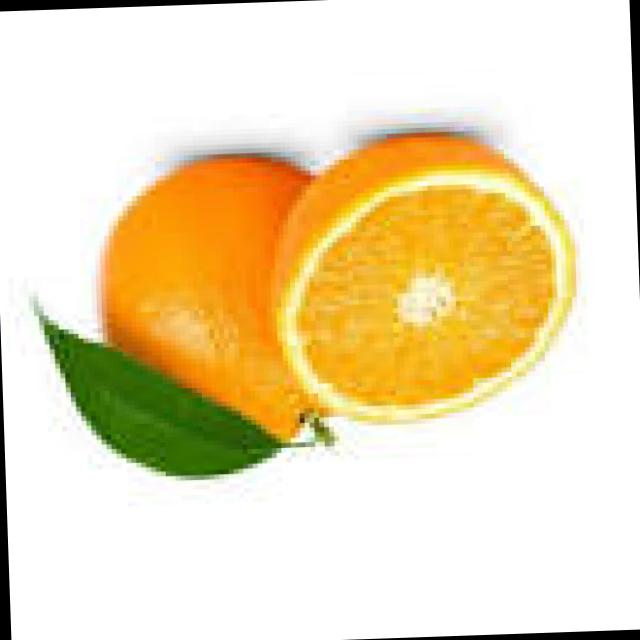orange: (39, 138, 575, 477)
